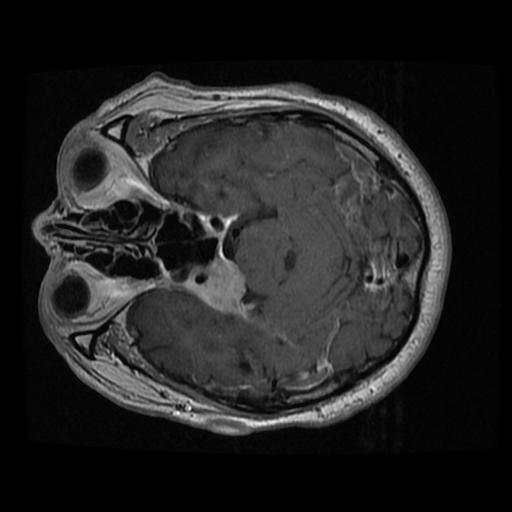meningioma: (184, 257, 246, 314)
